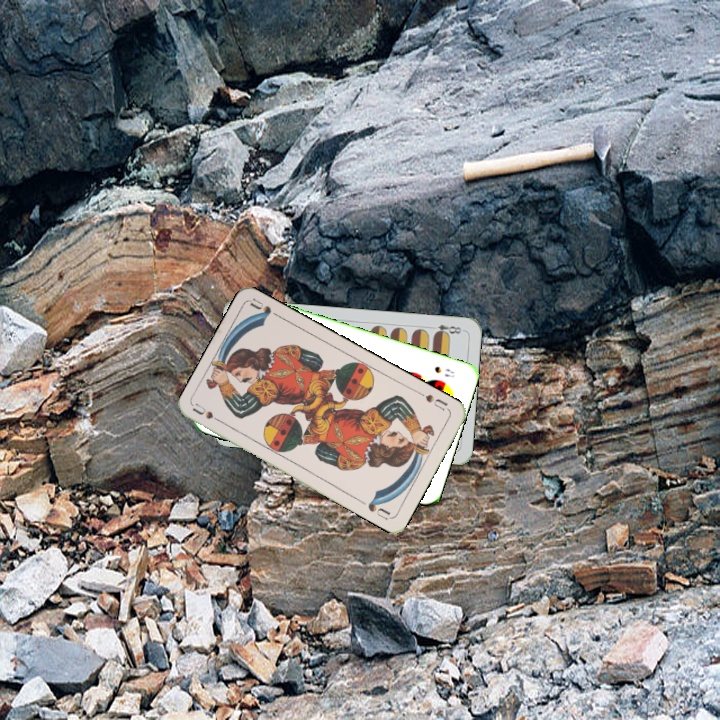E8: (426, 320, 466, 338)
S8: (430, 362, 457, 380)
SU: (190, 400, 228, 428), (414, 388, 452, 413)
